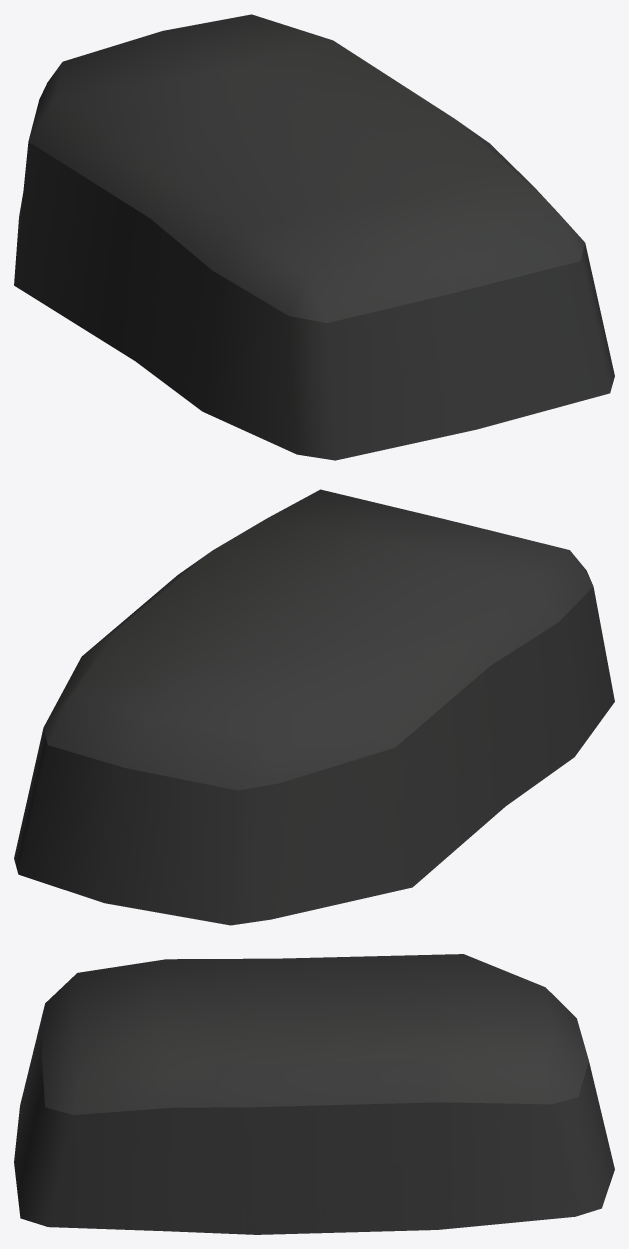
Rendered from Brick_5_2.glb.
The picture shows the model from 3 angles, top to bottom: view 1: azimuth 30°, elevation 25°; view 2: azimuth 150°, elevation 25°; view 3: azimuth 270°, elevation 25°; orthographic projection. The views are drawn at different scales.
Visible parts, largest first — view 1: Brick_5_2; view 2: Brick_5_2; view 3: Brick_5_2.
Boxes of the visible parts, x1=… form: Brick_5_2: x1=14, y1=14, x2=614, y2=460; Brick_5_2: x1=14, y1=489, x2=614, y2=925; Brick_5_2: x1=14, y1=954, x2=614, y2=1234.
Size of the model in its own units: 0.1515 by 0.0674 by 0.2489.
1 material, 1 textured.
